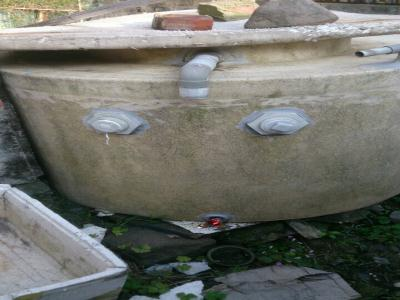styrofoam: (1, 183, 128, 300)
